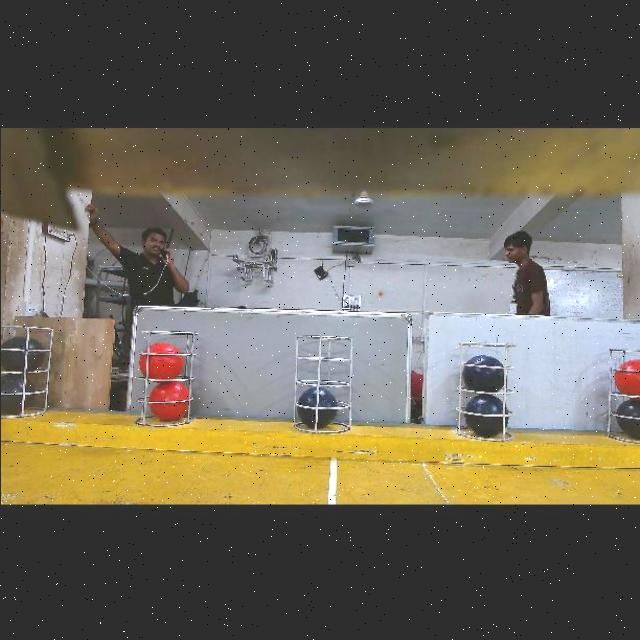P: (0, 334, 43, 373), (466, 393, 507, 433), (461, 353, 503, 391), (297, 386, 336, 425), (0, 371, 33, 412), (617, 399, 640, 438)
R: (147, 379, 189, 419), (142, 341, 180, 375), (612, 357, 640, 399)
S: (131, 325, 199, 437), (462, 338, 522, 432), (292, 338, 352, 424), (1, 322, 52, 420), (604, 341, 640, 449)
